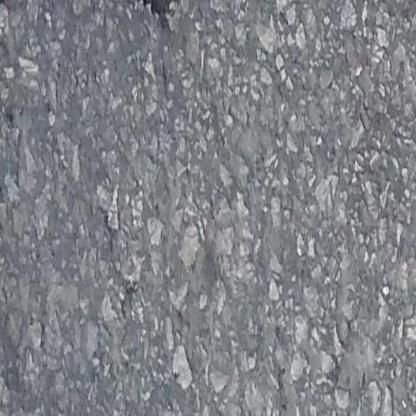Cracks: (95, 0, 185, 13), (0, 0, 24, 31)
